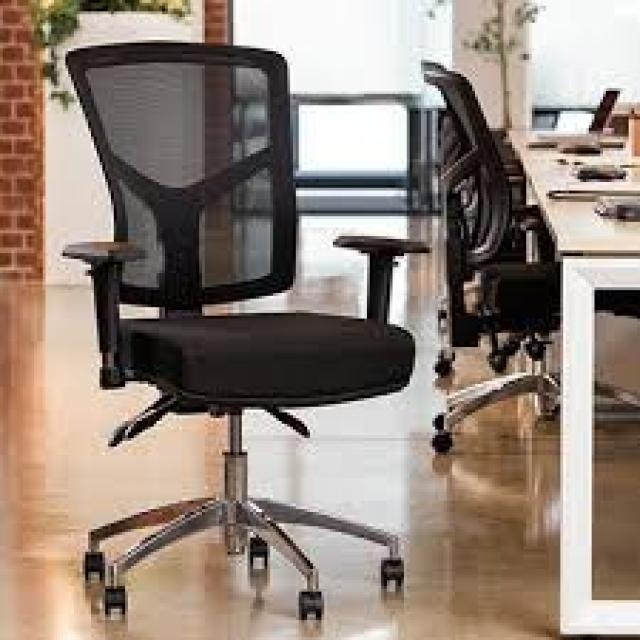chair: (39, 25, 428, 640), (378, 36, 603, 482)
